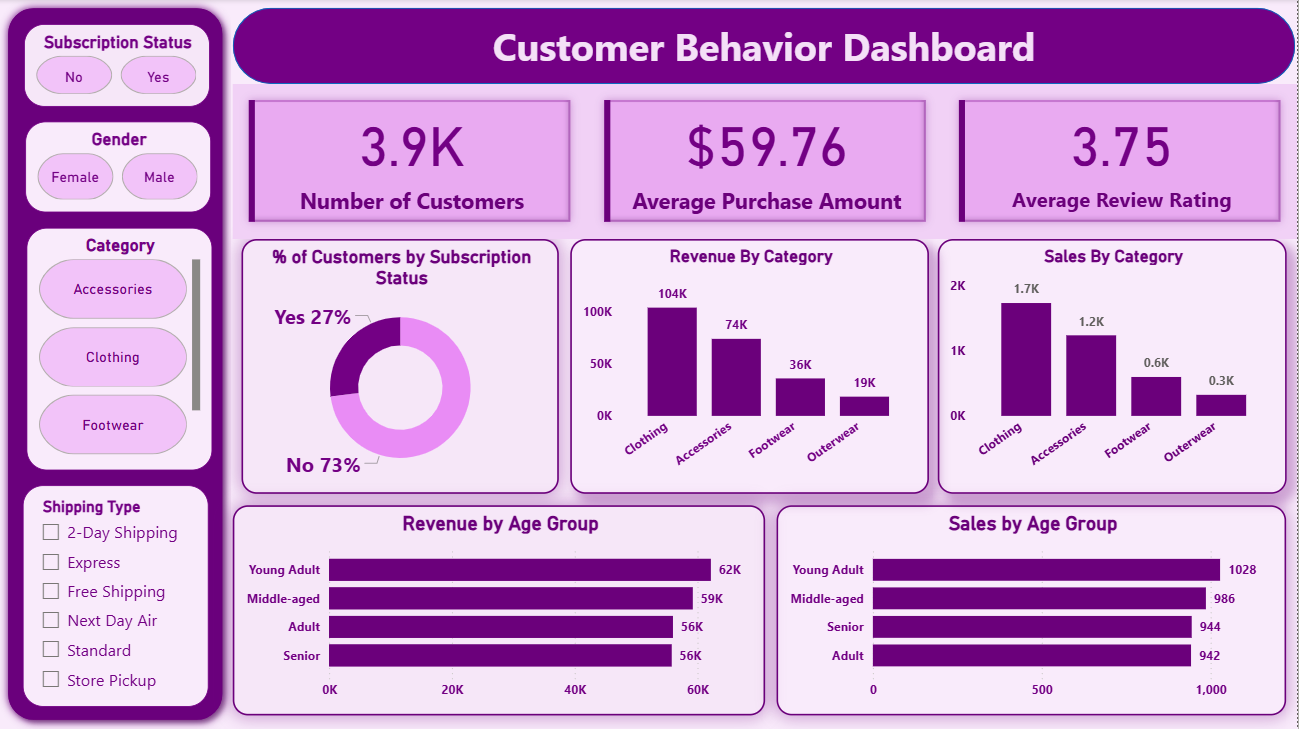

What the dashboard file says about the page in this screenshot:
{"tool":"powerbi","page":{"name":"Customer Behavior Dashboard","canvas":[1280,720],"ordinal":0},"visuals":[{"type":"donutChart","title":"% of Customers by Subscription Status","fields":{"Category":["customer_behavior customer.subscription_status"],"Y":["CountNonNull(customer_behavior customer.customer_id)"]},"box":[239,236.6,313,251.4],"z":0},{"type":"clusteredColumnChart","title":"Revenue By Category","fields":{"Y":["Sum(customer_behavior customer.purchase_amount)"],"Category":["customer_behavior customer.category"]},"box":[563.1,236.6,353.6,251.4],"z":1000},{"type":"clusteredColumnChart","title":"Sales By Category","fields":{"Category":["customer_behavior customer.category"],"Y":["CountNonNull(customer_behavior customer.customer_id)"]},"box":[925.4,236.6,343.8,251.4],"z":2000},{"type":"shape","box":[0,0,229.2,719.6],"z":3000},{"type":"advancedSlicerVisual","fields":{"Values":["customer_behavior customer.subscription_status"]},"box":[24.6,24.6,183.6,81.3],"z":4000},{"type":"advancedSlicerVisual","fields":{"Values":["customer_behavior customer.gender"]},"box":[25.9,120.8,183.6,90],"z":5000},{"type":"advancedSlicerVisual","fields":{"Values":["customer_behavior customer.category"]},"box":[27.1,225.5,183.6,239],"z":6000},{"type":"slicer","fields":{"Values":["customer_behavior customer.shipping_type"]},"box":[23.4,479.3,183.6,218.1],"z":7000},{"type":"clusteredBarChart","title":"Revenue by Age Group","fields":{"Y":["Sum(customer_behavior customer.purchase_amount)"],"Category":["customer_behavior customer.age_group"]},"box":[230.4,499,524.9,207],"z":8000},{"type":"clusteredBarChart","title":"Sales by Age Group","fields":{"Category":["customer_behavior customer.age_group"],"Y":["CountNonNull(customer_behavior customer.customer_id)"]},"box":[766.4,499,502.7,207],"z":9000},{"type":"cardVisual","fields":{"Data":["customer_behavior customer.Number of Customers","customer_behavior customer.Average Purchase Amount","customer_behavior customer.Average Review Rating"]},"box":[230.4,83.8,1049.8,152.8],"z":10000},{"type":"shape","box":[230.4,8.6,1047.4,75.2],"z":11000},{"type":"textbox","box":[257.5,16,993.1,67.8],"z":12000}]}

Visuals, with their boxes in screenshot pixels (x1, y1, x2, y2), scaled from the page's 1280x720 canvas onto the 1299x729 screenshot:
"% of Customers by Subscription Status" donutChart: Rect(243, 240, 560, 494)
"Revenue By Category" clusteredColumnChart: Rect(571, 240, 930, 494)
"Sales By Category" clusteredColumnChart: Rect(939, 240, 1288, 494)
shape: Rect(0, 0, 233, 728)
advancedSlicerVisual - customer_behavior customer.subscription_status: Rect(25, 25, 211, 107)
advancedSlicerVisual - customer_behavior customer.gender: Rect(26, 122, 213, 213)
advancedSlicerVisual - customer_behavior customer.category: Rect(28, 228, 214, 470)
slicer - customer_behavior customer.shipping_type: Rect(24, 485, 210, 706)
"Revenue by Age Group" clusteredBarChart: Rect(234, 505, 767, 715)
"Sales by Age Group" clusteredBarChart: Rect(778, 505, 1288, 715)
cardVisual - customer_behavior customer.Number of Customers x customer_behavior customer.Average Purchase Amount: Rect(234, 85, 1298, 240)
shape: Rect(234, 9, 1297, 85)
textbox: Rect(261, 16, 1269, 85)
